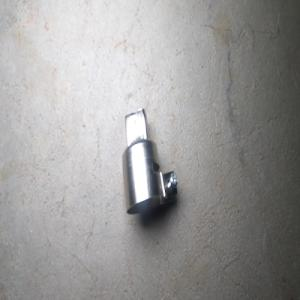MetalPart: (121, 106, 178, 215)
